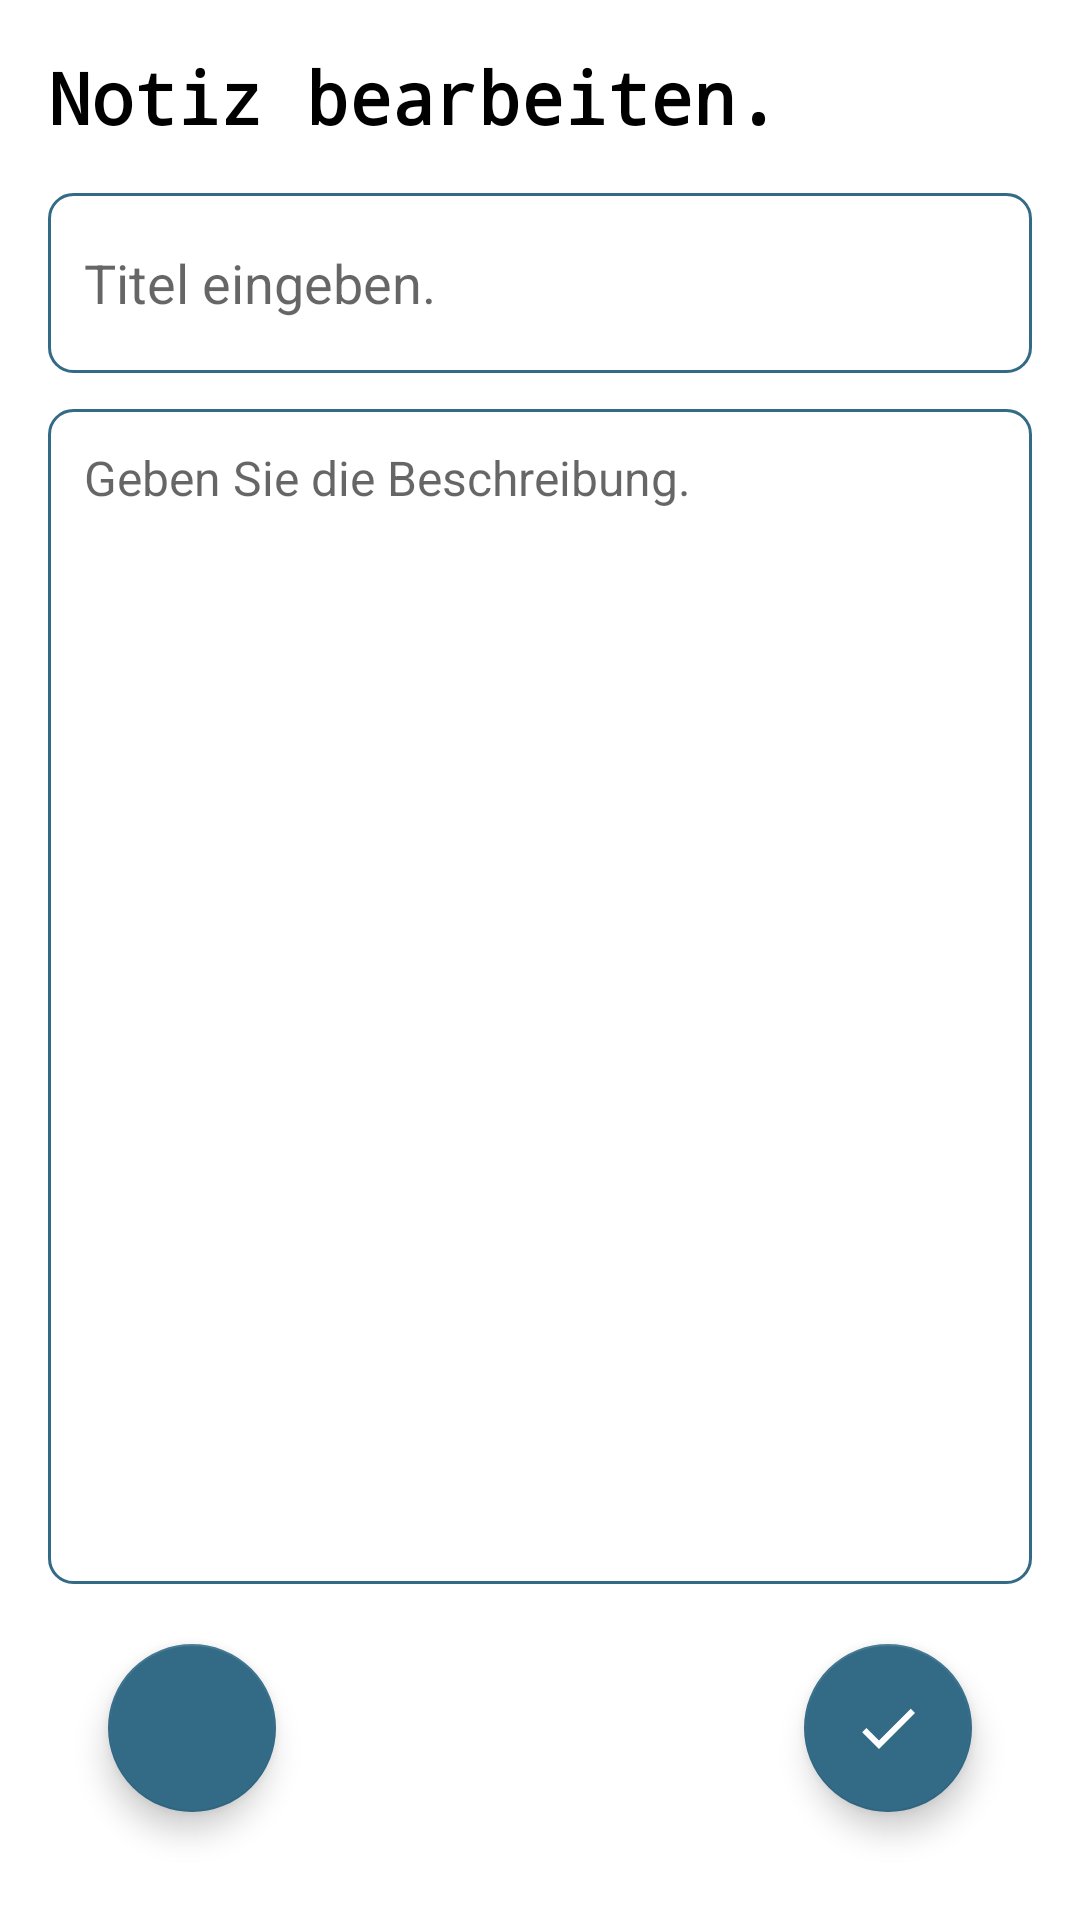

Screen size 1080*1920. Icon name, then its center in pixels as point (x, y):
done: point (888, 1728)
